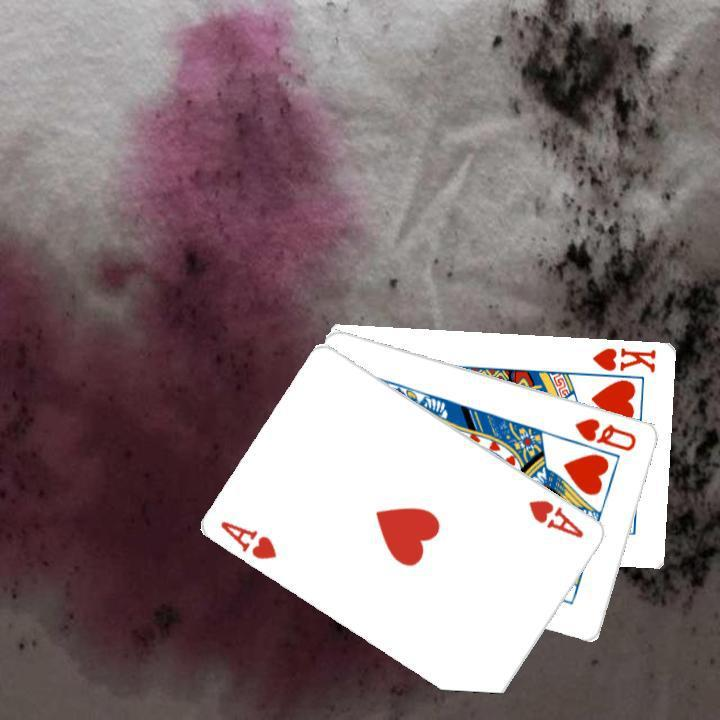A: (216, 516, 280, 562), (524, 495, 587, 540)
K: (588, 342, 658, 374)
Q: (571, 413, 639, 453)
